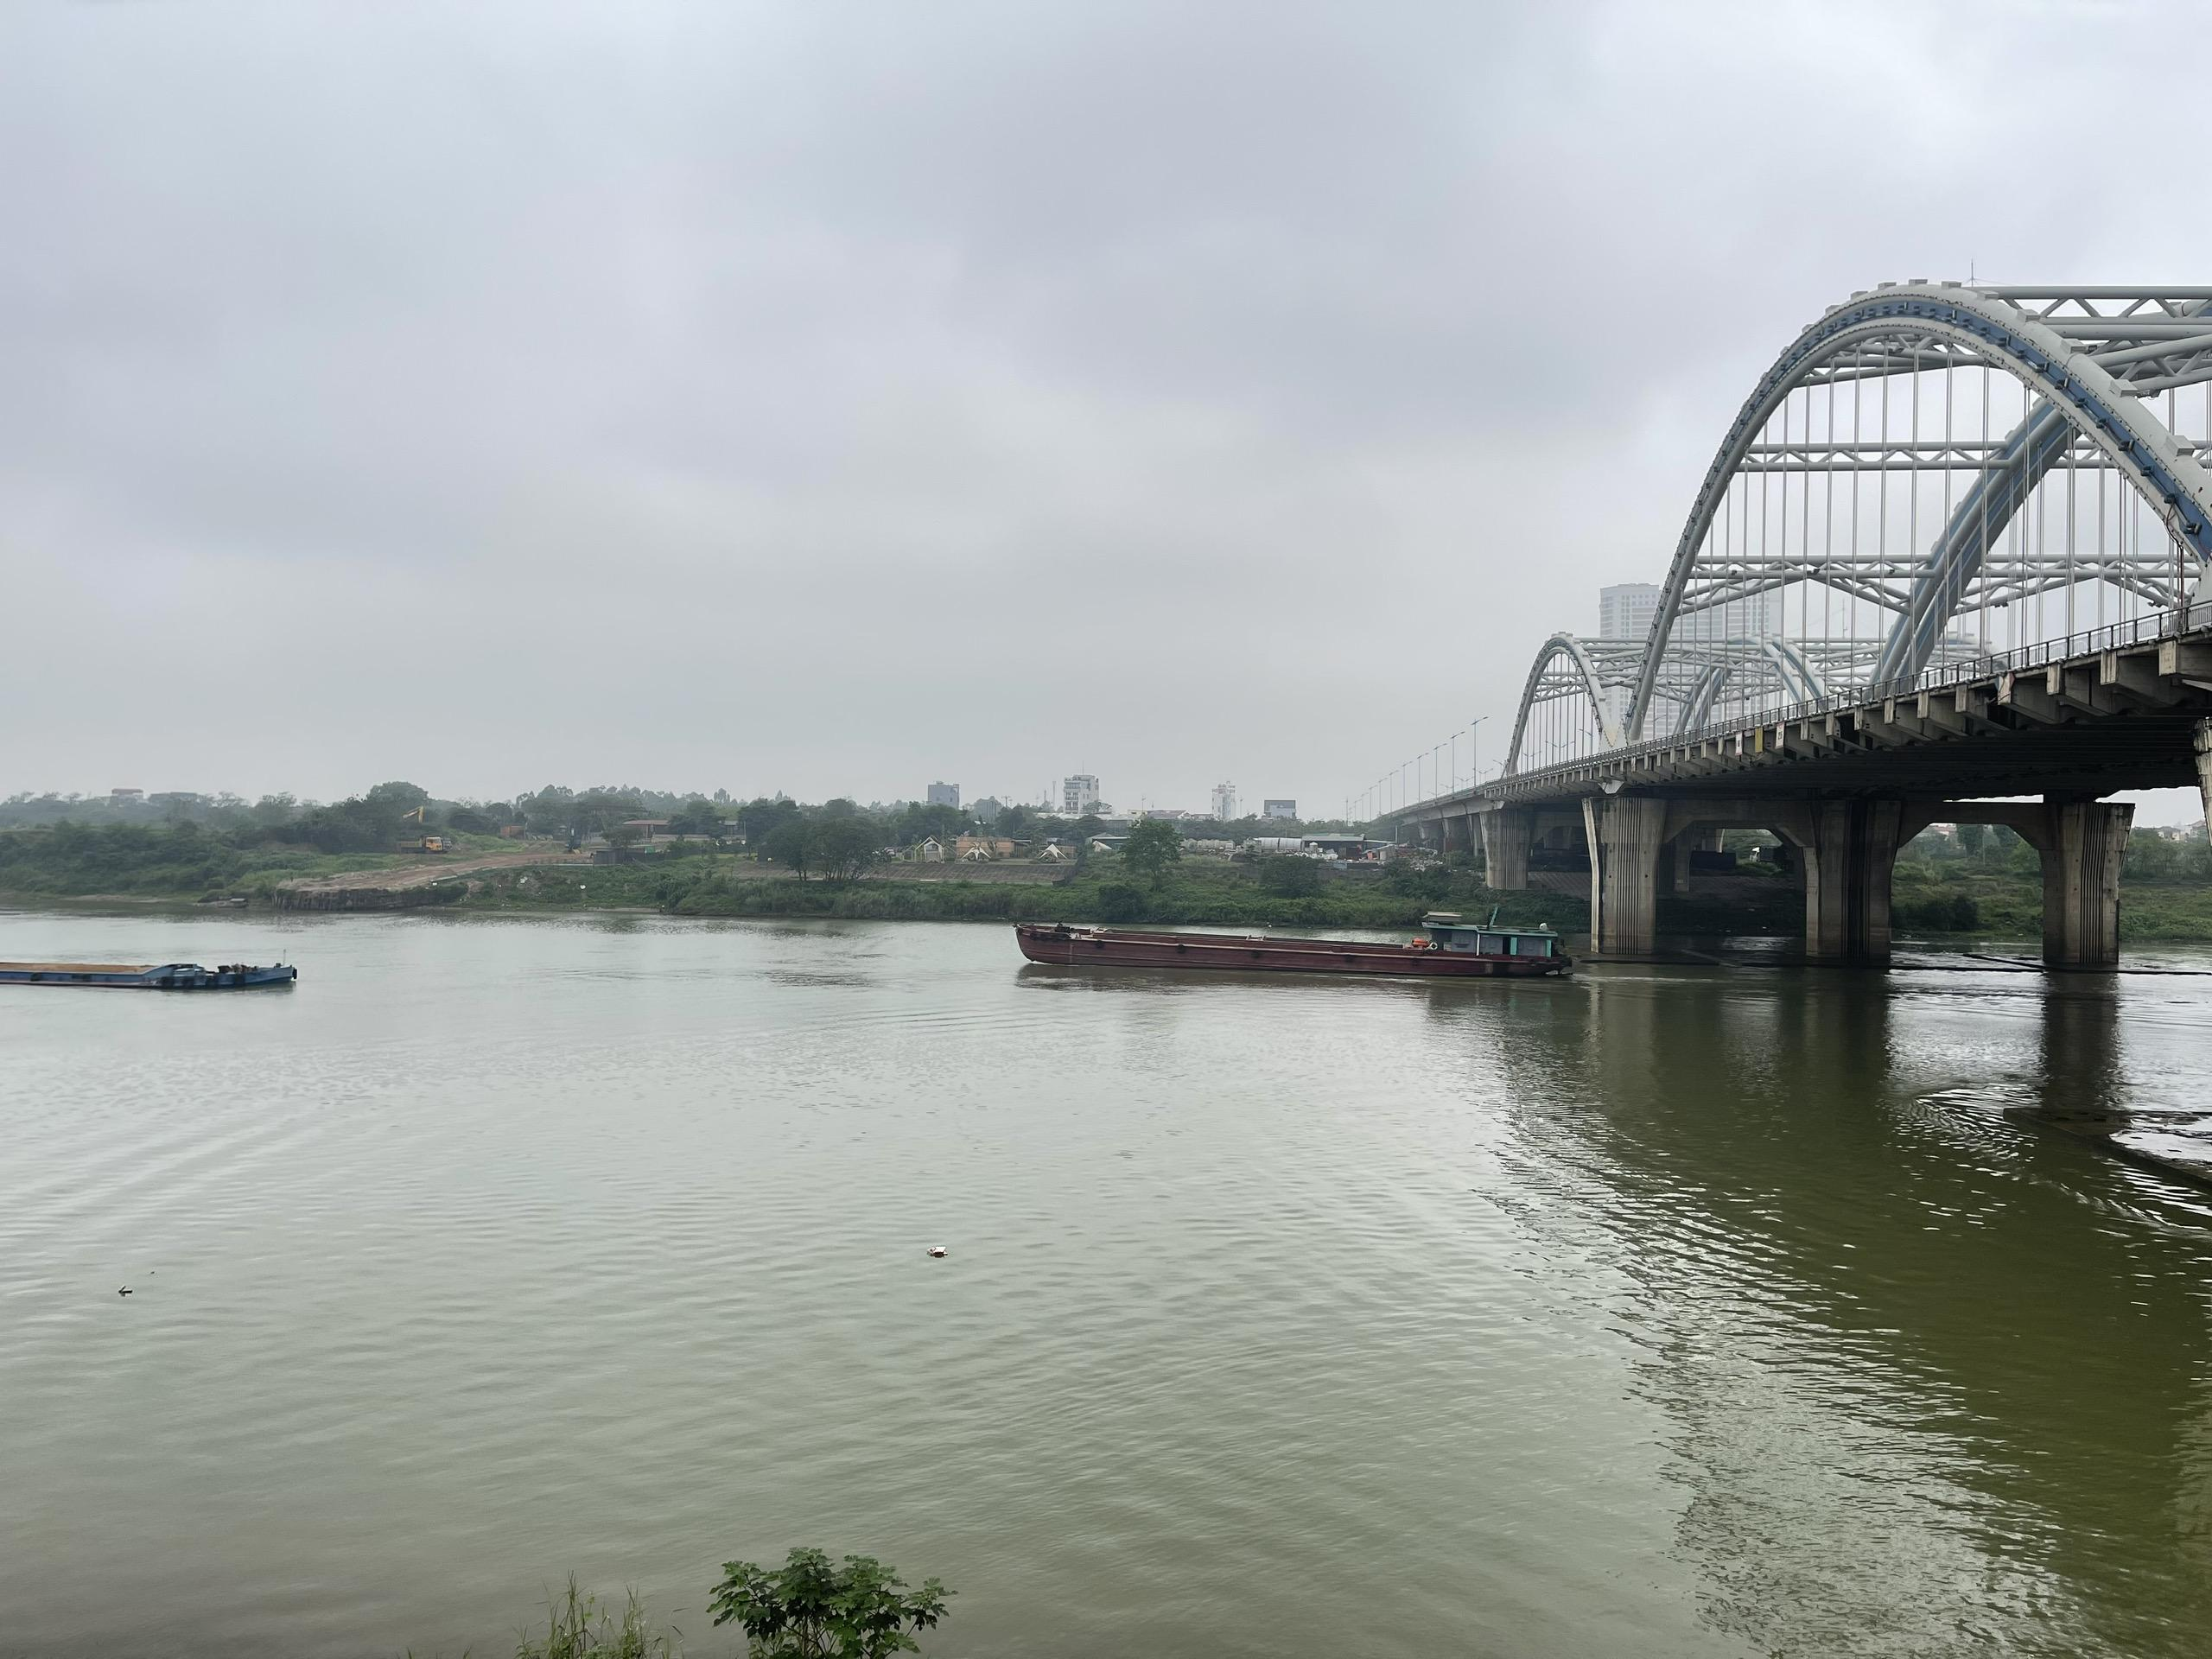Ship: (1010, 894, 1578, 988), (3, 932, 308, 1006)
